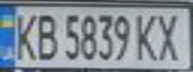3: (97, 11, 118, 61)
5: (57, 10, 81, 61)
8: (78, 10, 100, 61)
9: (112, 11, 136, 62)
B: (30, 10, 60, 62)
K: (9, 9, 39, 62), (133, 11, 160, 62)
X: (151, 10, 187, 63)
